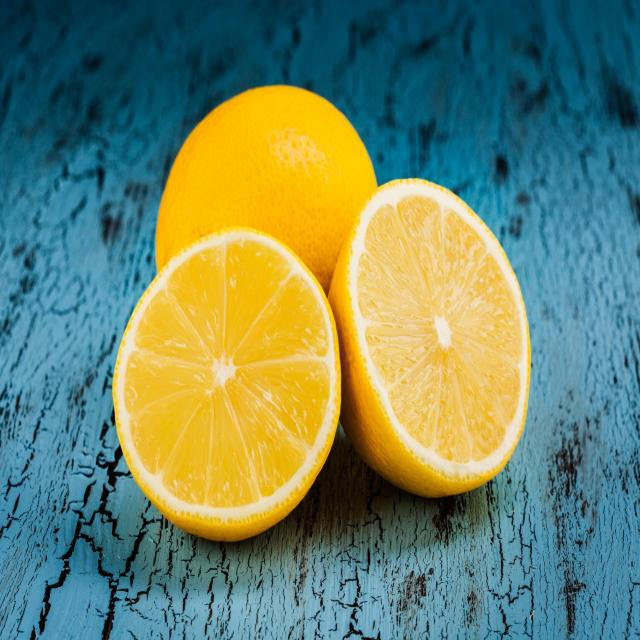lemon: (106, 221, 347, 549), (325, 171, 536, 504)
